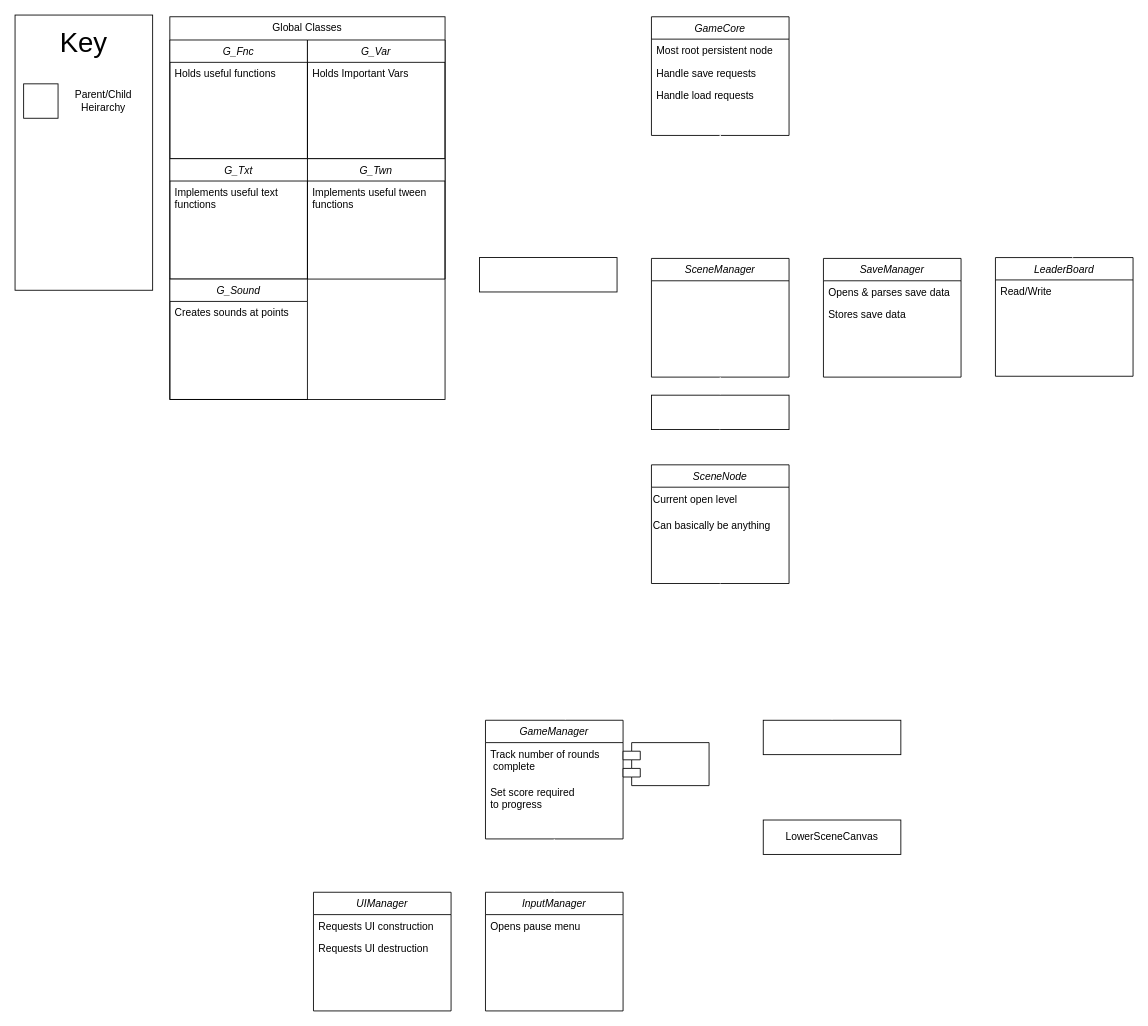
The diagram is 1148 pixels wide and 1026 high, and some of its shapes have lost their labels. The shapes that lost their labels are listed below. From the top down, each one's centre as x and y in pixels, then its label:
At (548,274): "debug_canvas_layer_node".
At (720,412): "primary_canvas_layer_node".
At (831,737): "UpperSceneCanvas".
At (665,764): "SignalBus".
